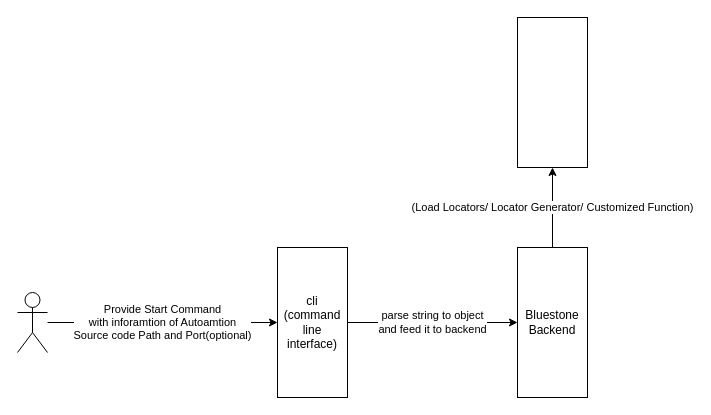
The diagram is 711 pixels wide and 415 high, and some of its shapes have lost their labels. The shapes that lost their labels are listed below. From the top down, each one's centre as x and y in pixels, then its label:
At pixel 552 92: "Automation Source Code".
At pixel 32 322: "Actor".
